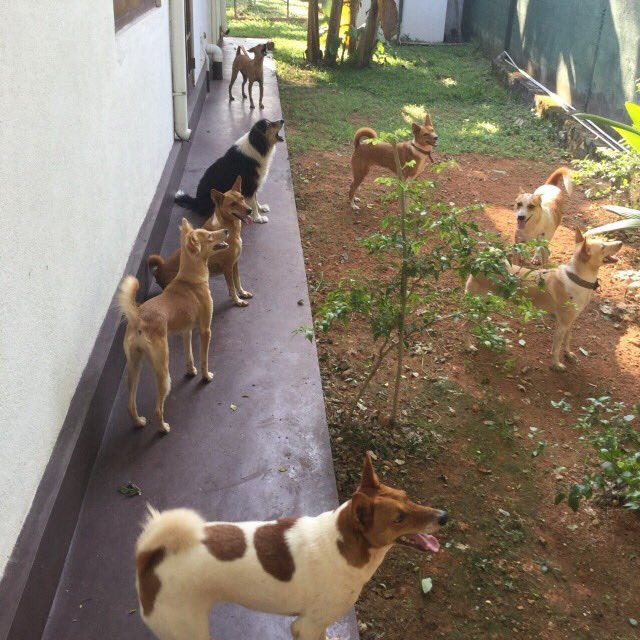Dog: (117, 450, 464, 640), (116, 215, 232, 441), (455, 230, 631, 370), (179, 108, 297, 247), (338, 110, 447, 212), (498, 157, 583, 273)
